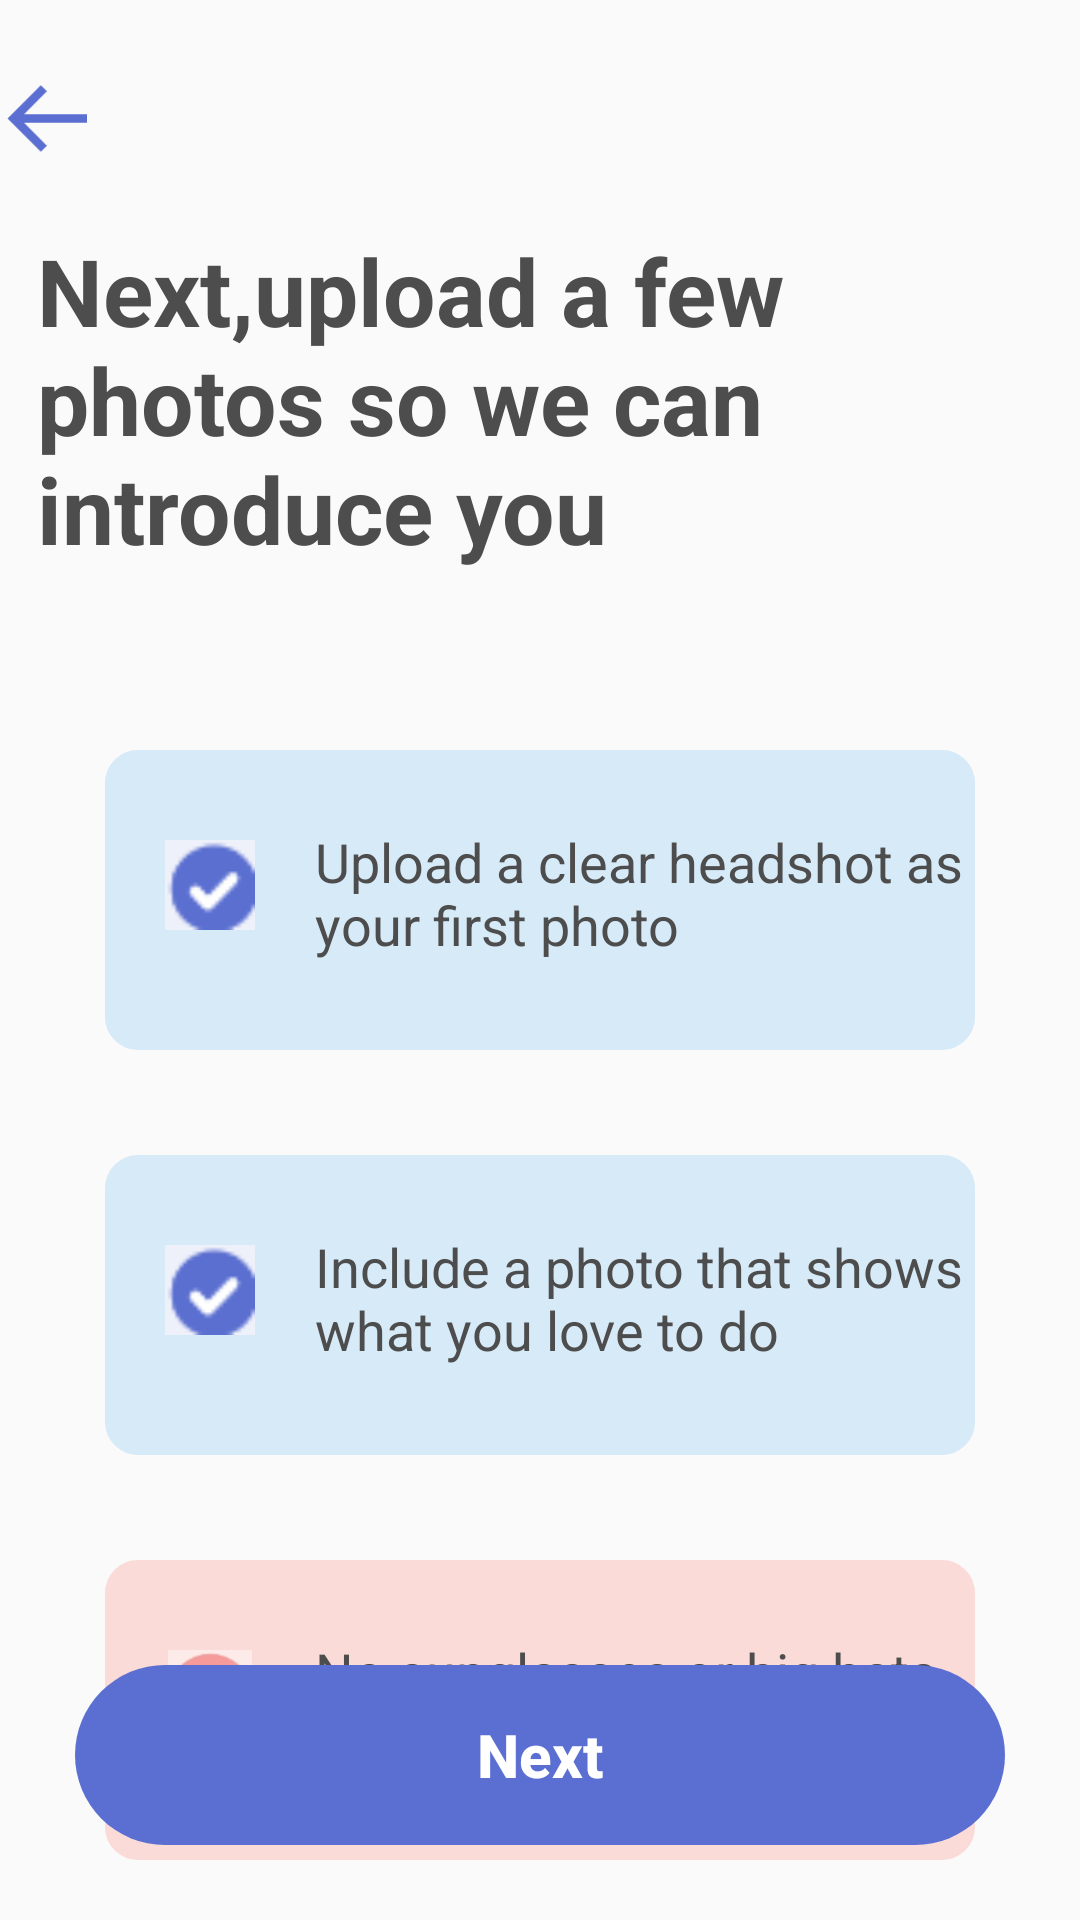

Icon click points for this 1080×1920 phone screenshot, format (x=x, y=y):
tickmark: (x=212, y=886), (x=212, y=1291)
